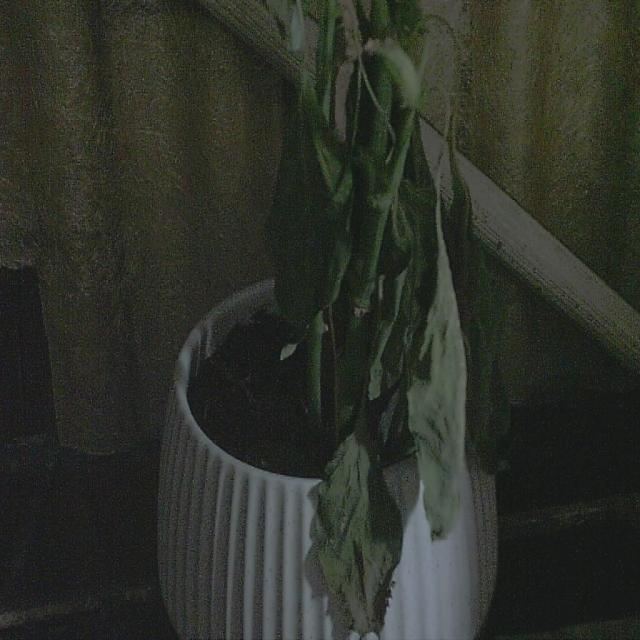Leaf: (266, 76, 355, 360), (406, 229, 468, 541), (312, 436, 404, 636)
